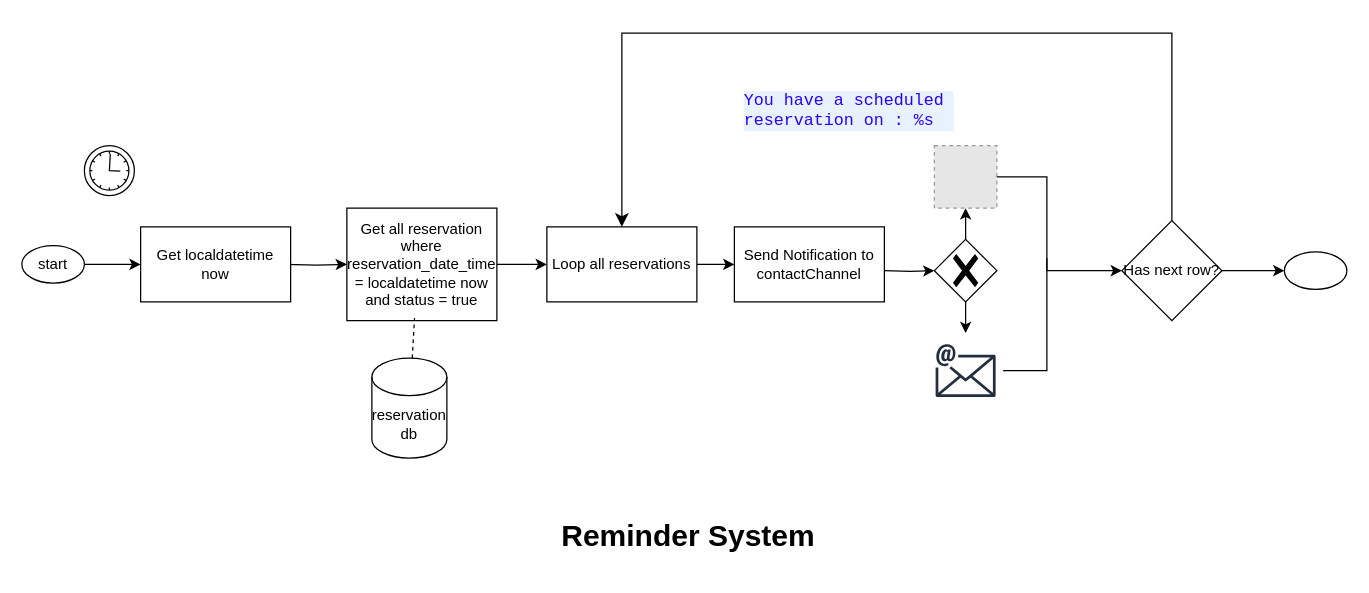
This 1369x593 diagram has some shape labels left out. Grey dashed boxes stand in for pictures. The centre of each missing label's shape, as x and y in pixels:
"Email" goes at point (965, 370).
"end" goes at point (1315, 270).
"Run every 30 mins" goes at point (108, 170).
